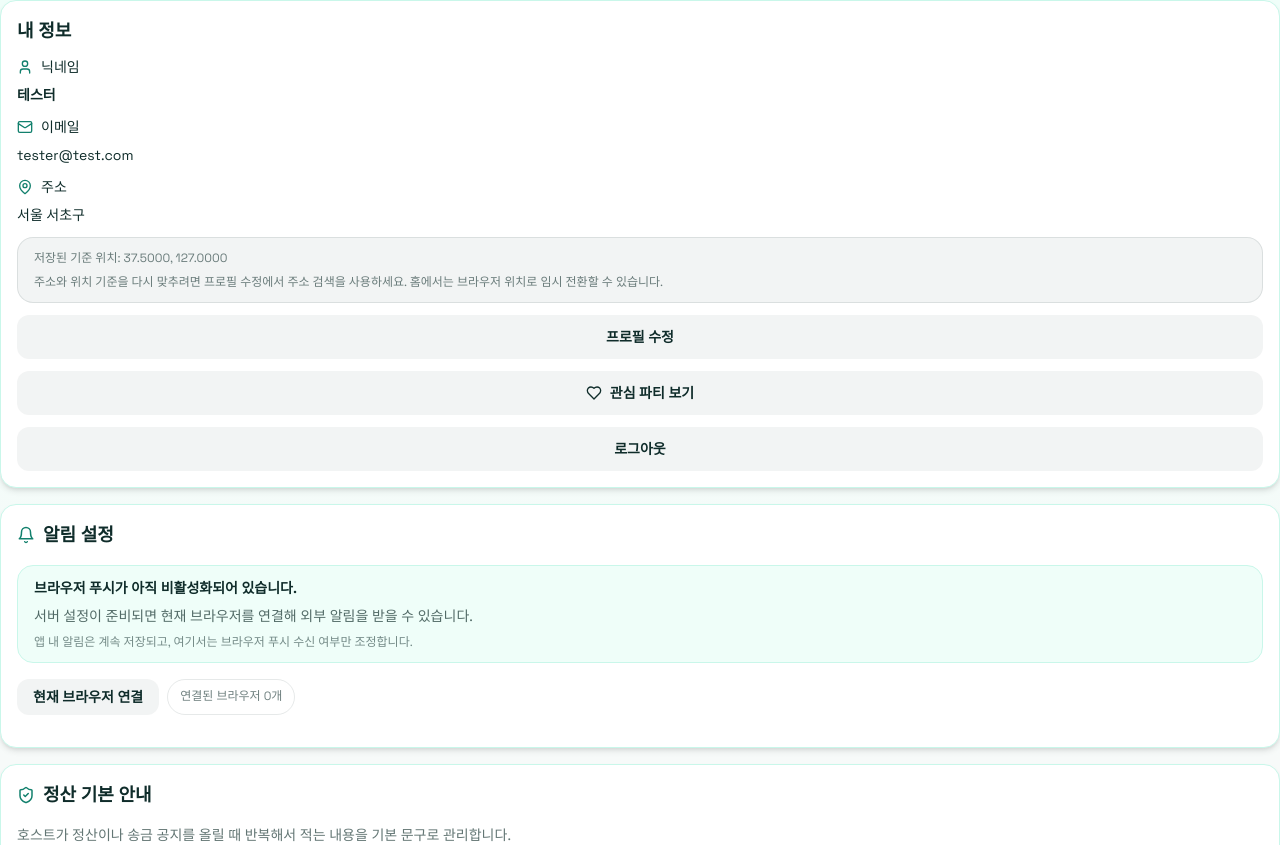
Profile edit › 프로필을_수정하고_전역_프로필을_동기화한다
The width and height of the screenshot is (1280, 845).
Expected: the text "테스터" is shown, [17,86,56,104]
Click the button "프로필 수정": (640, 337) [17,315,1263,359]
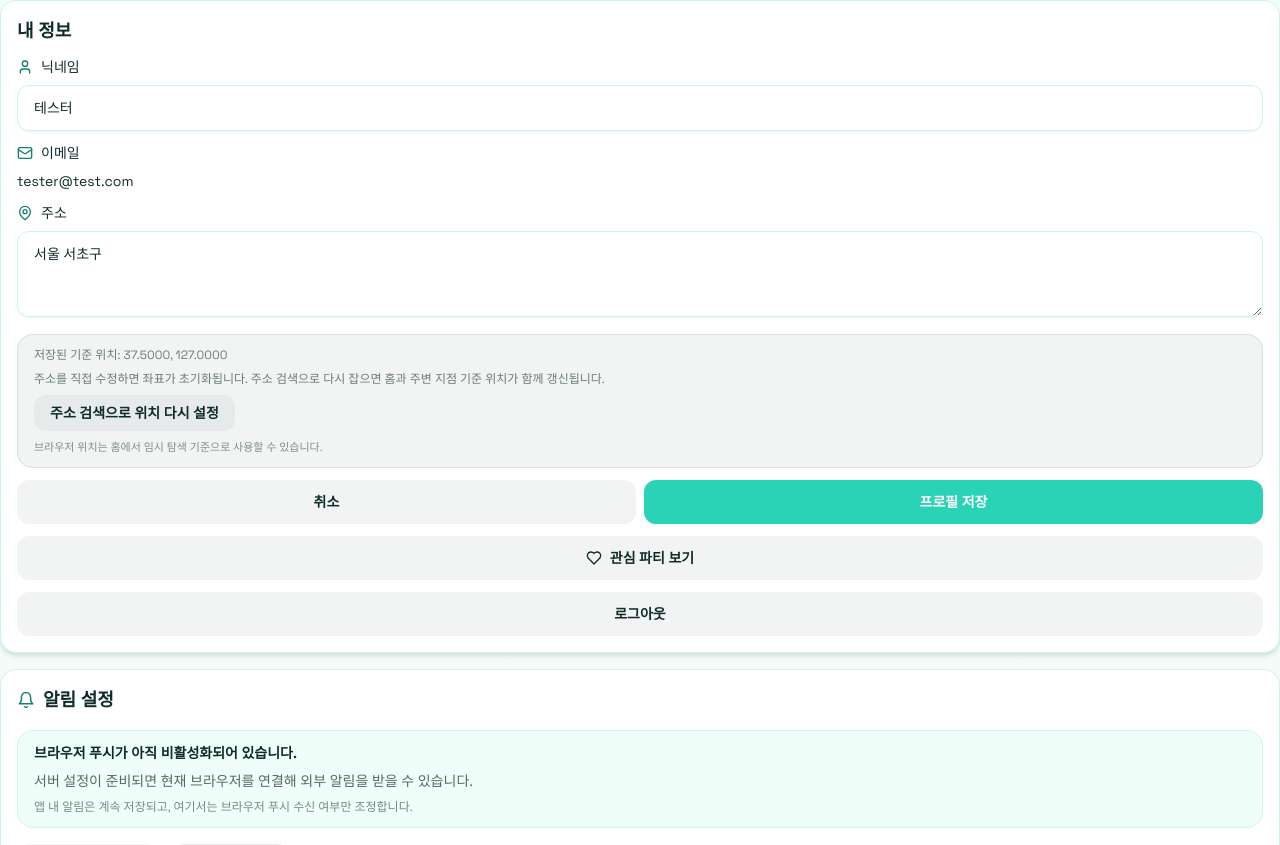
Replace the text in the field labelled "닉네임" with "수정된닉네임": (640, 108) [17,85,1263,131]
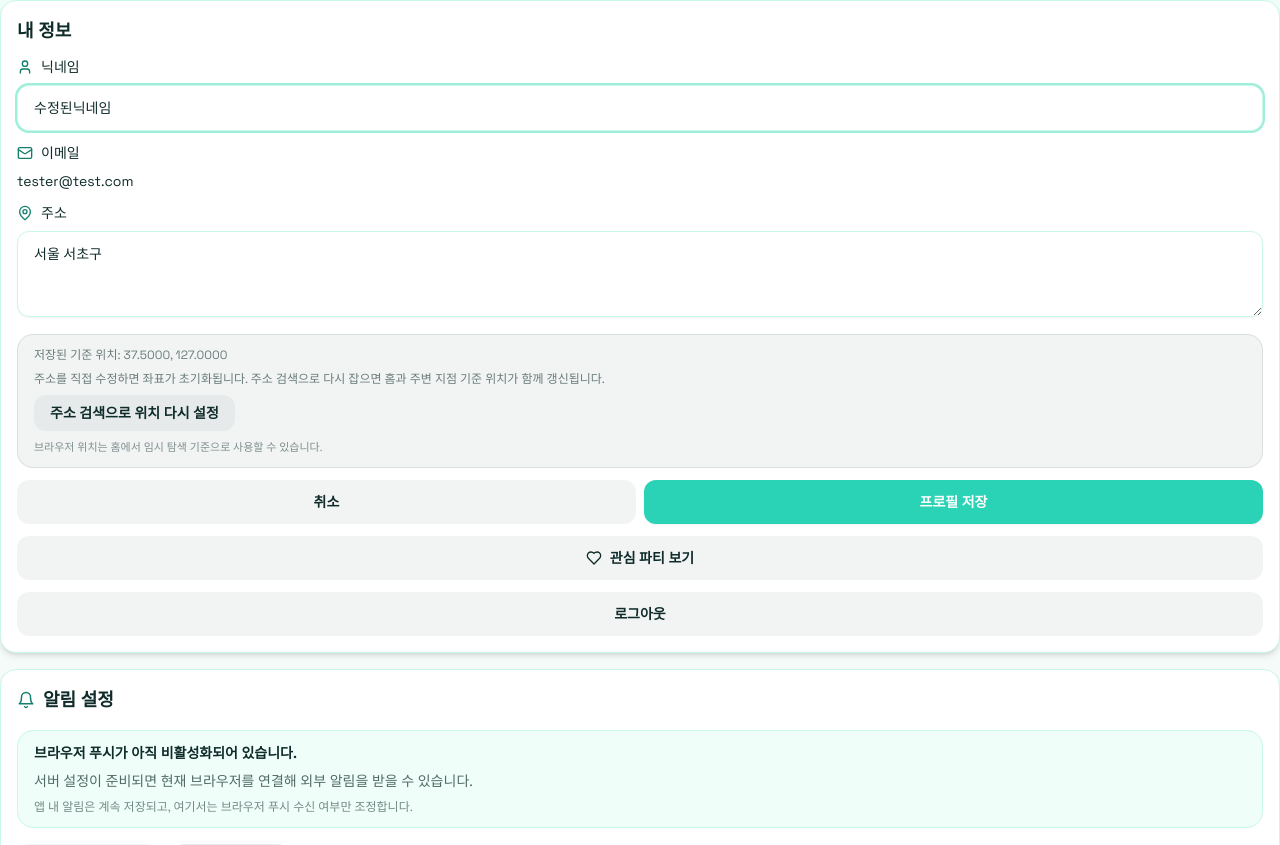
Replace the text in the text box labelled "주소" with "서울 송파구": (640, 274) [17,231,1263,317]
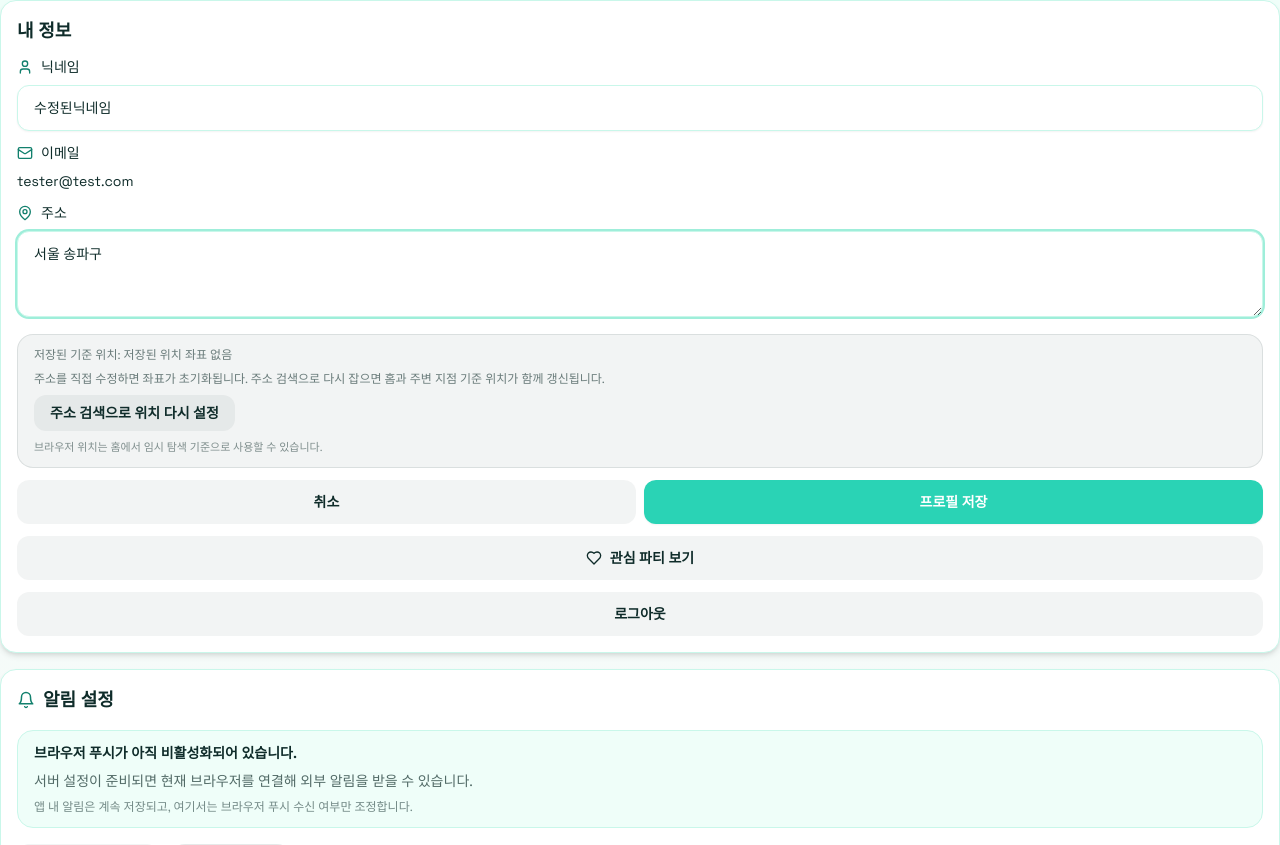
Click the button "프로필 저장": (954, 502) [644,480,1263,524]
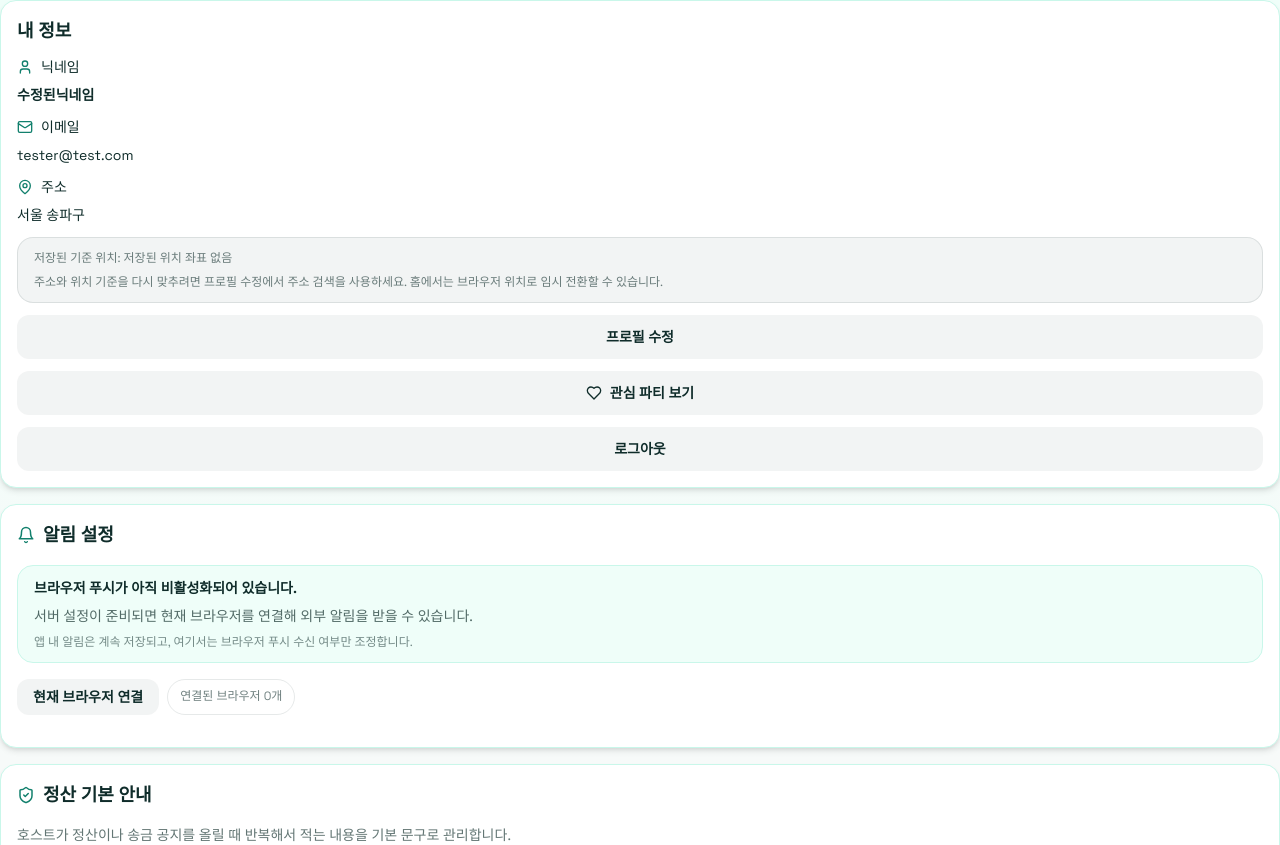
Expected: the text "수정된닉네임" is shown, [17,86,94,104]
Expected: the text "서울 송파구" is shown, [17,206,85,224]
